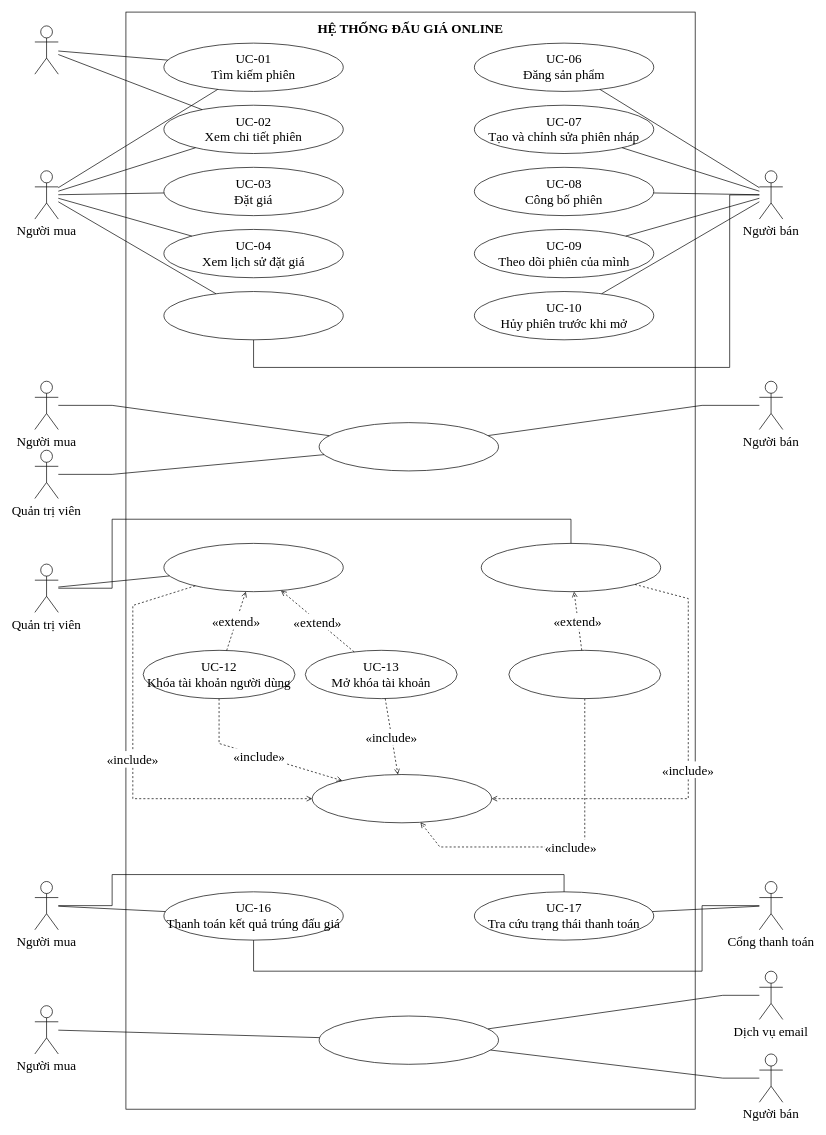
Some shapes in this 826 by 1135 pixel diagram are drawn without their labels. The shapes that lost their labels are listed below. From the top down, each one's centre as x and y in pixels, then its label:
point 46,49: Khách
point 253,315: UC-05 Xem kết quả phiên
point 408,446: UC-11 Đăng nhập
point 253,567: UC-20 Xem tài khoản người dùng
point 571,567: UC-14 Theo dõi phiên toàn hệ thống
point 584,674: UC-15 Hủy phiên vi phạm
point 402,798: UC-19 Kiểm tra quyền quản trị
point 408,1039: UC-18 Thông báo kết quả đấu giá
